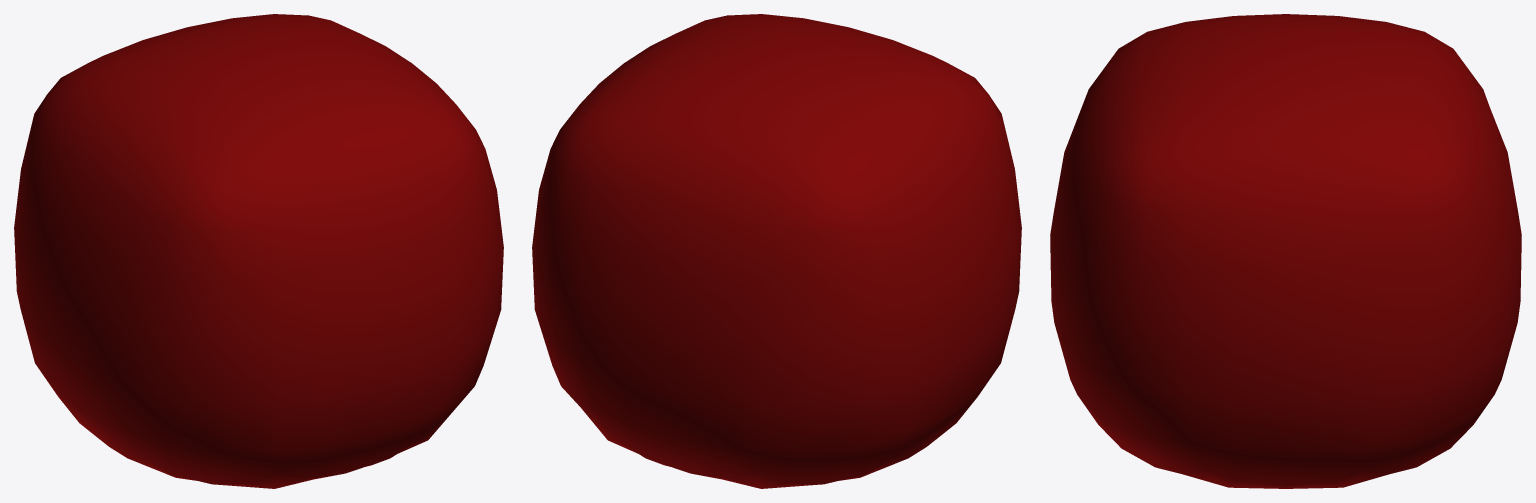
Rendered from Pouf1_8.fbx.
The picture shows the model from 3 angles, left to right: view 1: azimuth 30°, elevation 25°; view 2: azimuth 150°, elevation 25°; view 3: azimuth 270°, elevation 25°; orthographic projection.
Parts seen in each view (by area): view 1: pCube2897; view 2: pCube2897; view 3: pCube2897.
Boxes of the visible parts, x1,y1,x2,y2 form: pCube2897: (14,14,503,488); pCube2897: (532,14,1021,488); pCube2897: (1050,14,1521,488).
Size of the model in its own units: 33.21 by 31.87 by 33.2.
